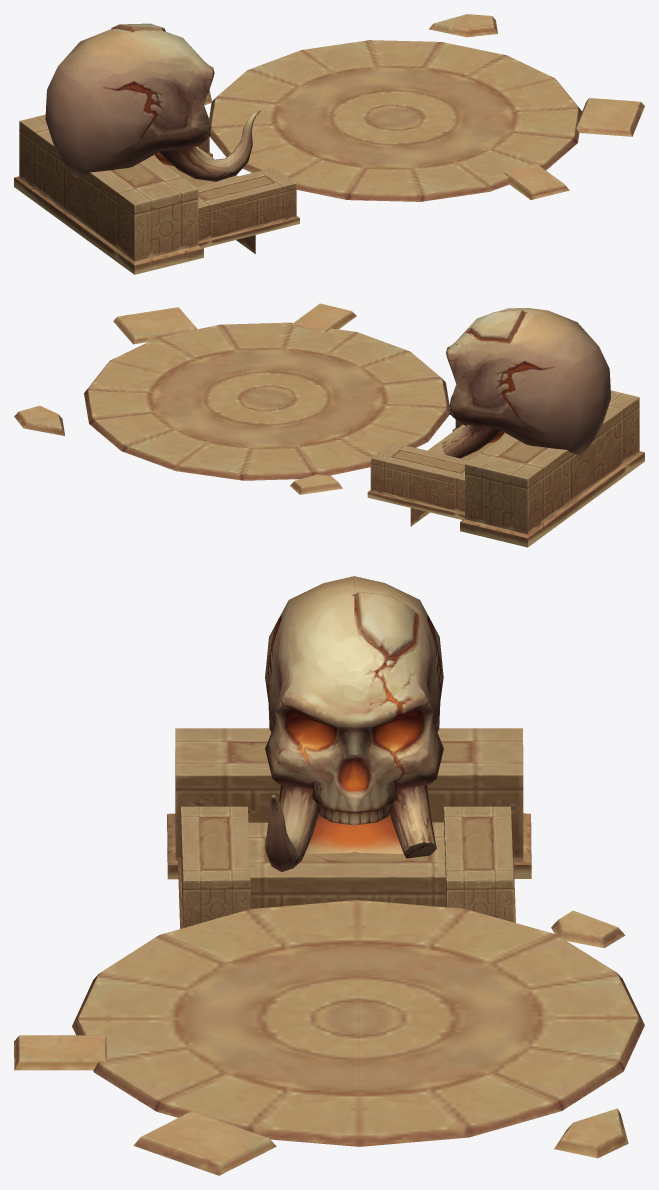
The model's file is Area_03_3_y.FBX.
3 renders of one model, top to bottom at view 1: azimuth 30°, elevation 25°; view 2: azimuth 150°, elevation 25°; view 3: azimuth 270°, elevation 25°, orthographic. The views are drawn at different scales.
Visible parts, largest first — view 1: Area_03_3_y; view 2: Area_03_3_y; view 3: Area_03_3_y.
Boxes of the visible parts, box(x1,y1,x2,y2) form: Area_03_3_y: box(14, 14, 644, 274); Area_03_3_y: box(14, 303, 644, 547); Area_03_3_y: box(14, 576, 644, 1175).
Size of the model in its own units: 58.05 by 21.95 by 38.47.
1 material, 1 textured.
